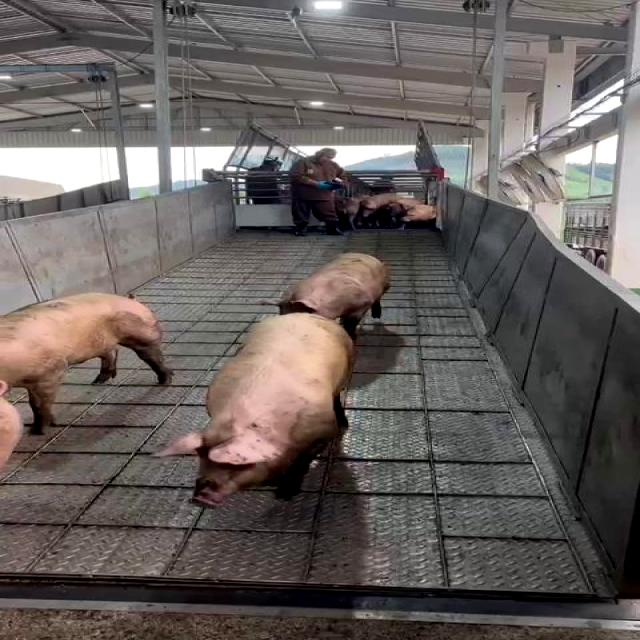pig: (157, 315, 353, 503), (0, 294, 172, 431), (267, 254, 389, 339), (1, 397, 21, 468)
